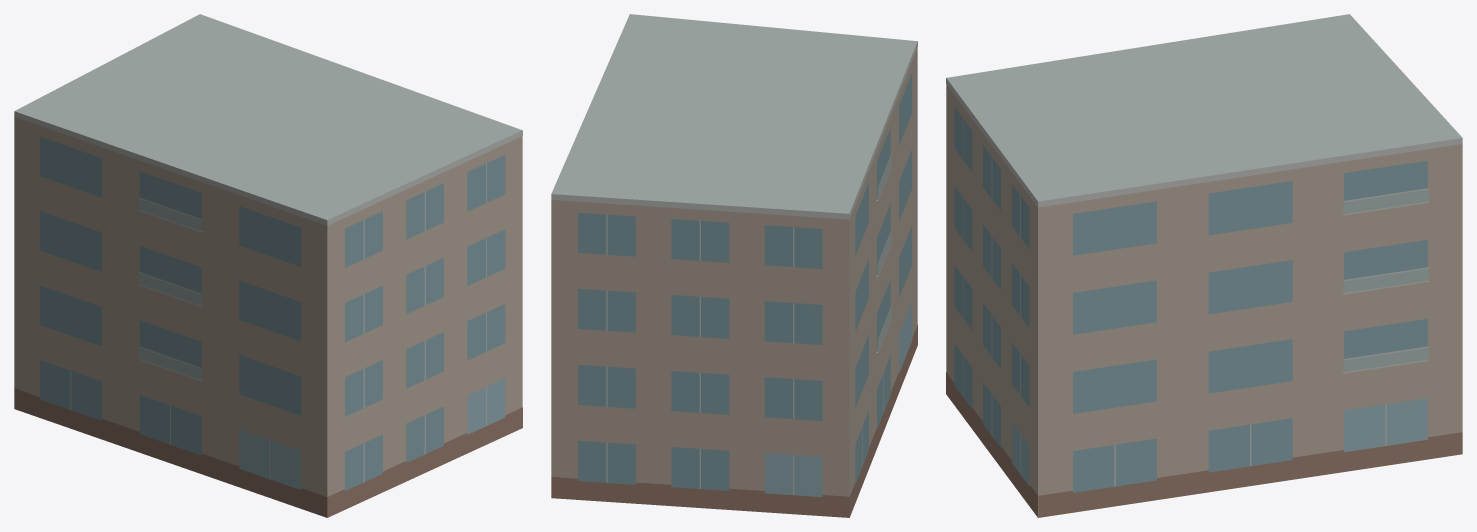
Rendered from survey-upis-32537192.glb.
The picture shows the model from 3 angles, left to right: view 1: azimuth 30°, elevation 25°; view 2: azimuth 150°, elevation 25°; view 3: azimuth 270°, elevation 25°; orthographic projection. The views are drawn at different scales.
Parts seen in each view (by area): view 1: survey-upis-32537192.tmp; view 2: survey-upis-32537192.tmp; view 3: survey-upis-32537192.tmp.
Boxes of the visible parts, bbox=[...] form: survey-upis-32537192.tmp: bbox=[14, 14, 522, 517]; survey-upis-32537192.tmp: bbox=[551, 14, 917, 517]; survey-upis-32537192.tmp: bbox=[946, 14, 1462, 517].
Size of the model in its own units: 16.29 by 12.8 by 18.95.
